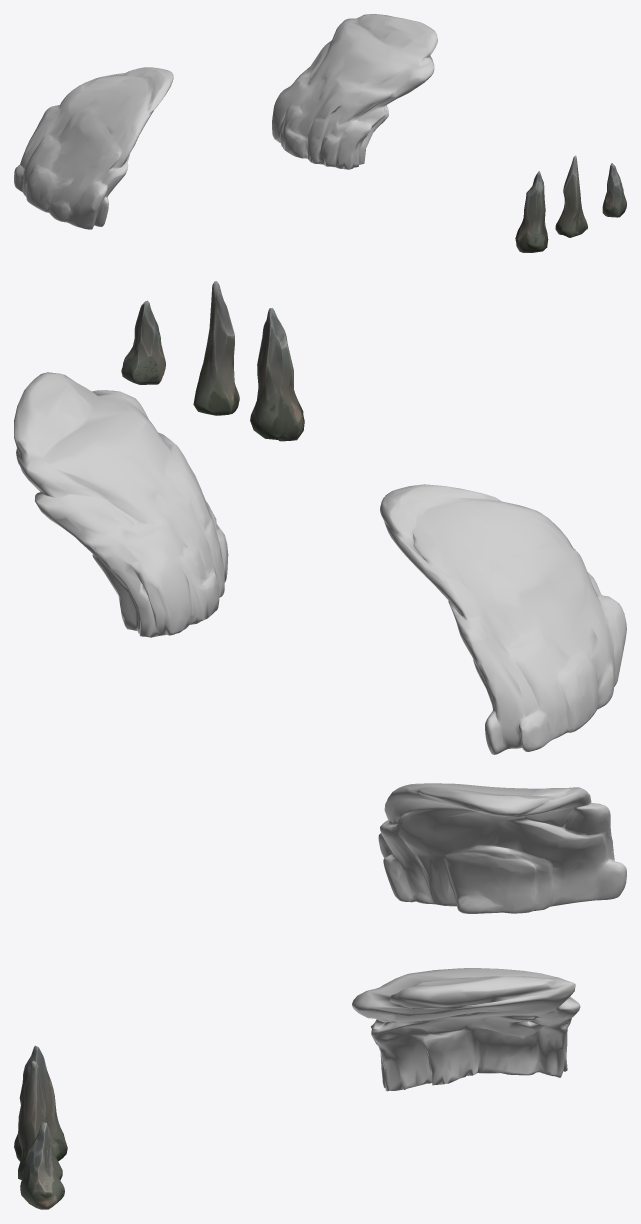
File: Stilagmits.fbx
The picture shows the model from 3 angles, top to bottom: view 1: azimuth 30°, elevation 25°; view 2: azimuth 150°, elevation 25°; view 3: azimuth 270°, elevation 25°; orthographic projection. The views are drawn at different scales.
Parts seen in each view (by area): view 1: Big_3, BIG_1, Small_6, Small_7, Small_8; view 2: BIG_1, Big_3, Small_6, Small_7, Small_8; view 3: BIG_1, Big_3, Small_8, Small_7, Small_6.
Part boxes in pixels (x1,y1,x2,y2): Big_3: [272, 14, 437, 169]; BIG_1: [14, 67, 173, 229]; Small_6: [515, 171, 548, 252]; Small_7: [555, 155, 587, 237]; Small_8: [602, 163, 626, 217]; BIG_1: [380, 484, 626, 754]; Big_3: [14, 372, 228, 637]; Small_6: [250, 308, 304, 441]; Small_7: [193, 281, 239, 415]; Small_8: [121, 300, 165, 384]; BIG_1: [378, 783, 626, 913]; Big_3: [352, 968, 580, 1091]; Small_8: [20, 1122, 64, 1209]; Small_7: [18, 1061, 62, 1179]; Small_6: [14, 1045, 67, 1161].
Size of the model in its own units: 2274 by 618 by 1755.
